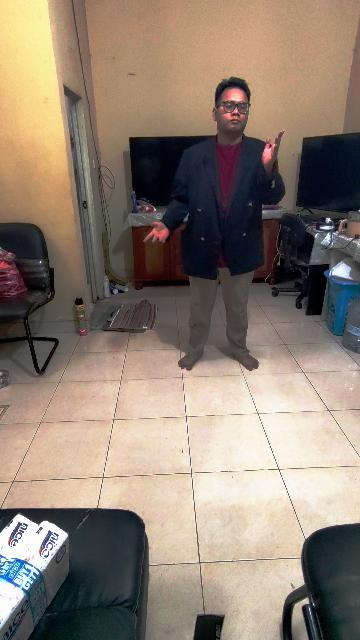berdiri: (145, 71, 287, 376)
